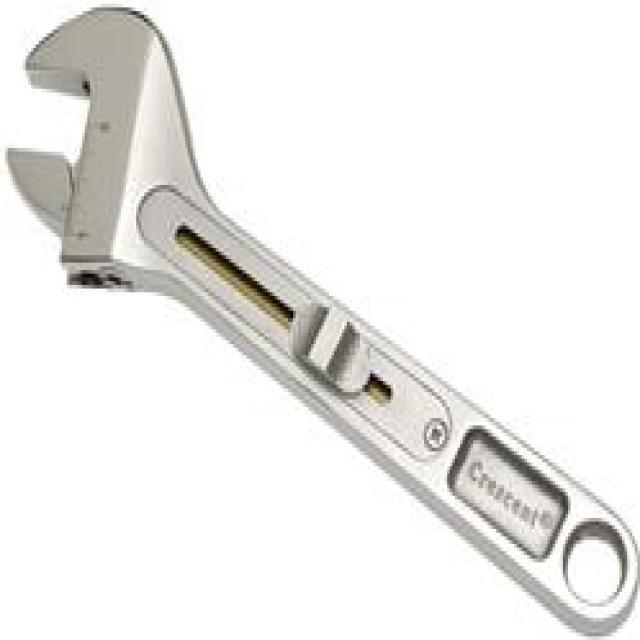wrench: (1, 0, 639, 638)
